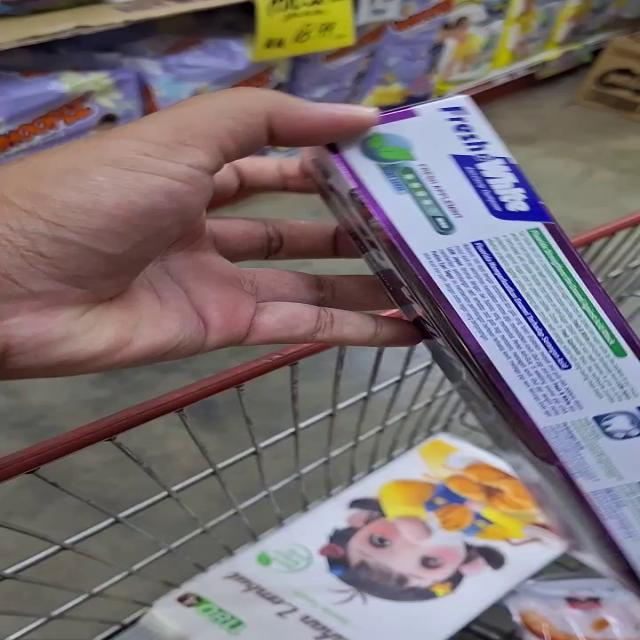Tisu: (78, 508, 492, 640)
Ubat Gigi: (311, 119, 584, 353), (462, 292, 640, 534)
